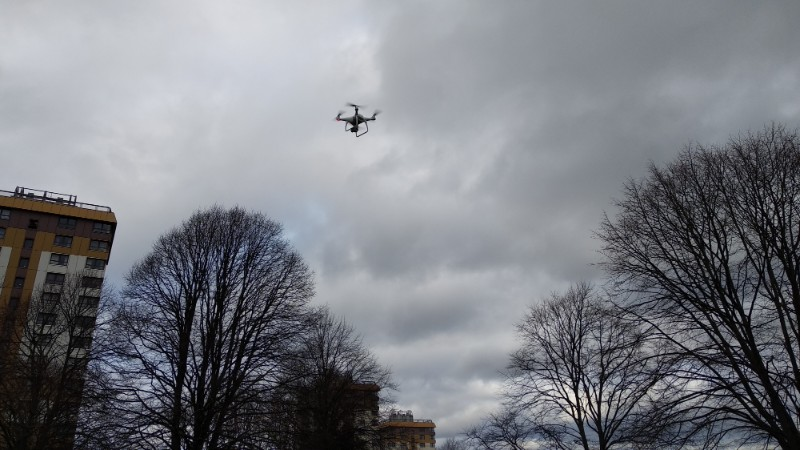drone: (335, 103, 382, 137)
